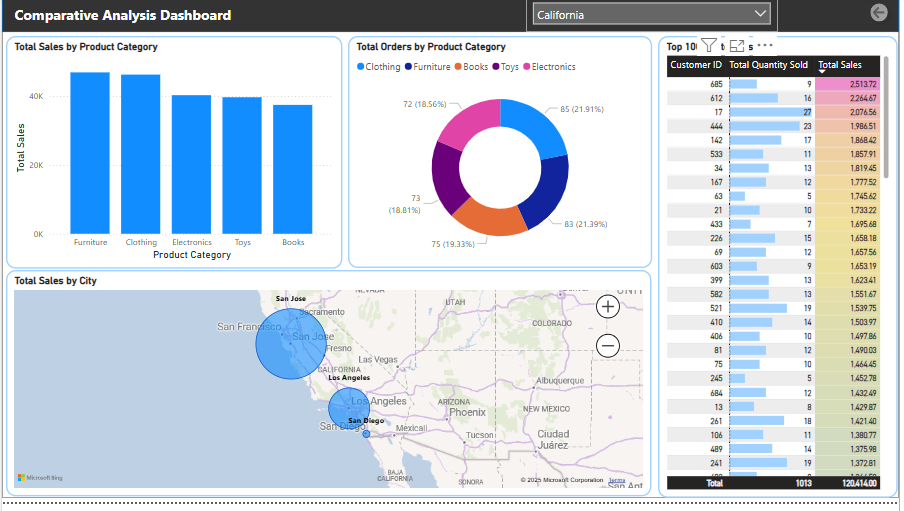

The page's visual inventory and layout, read from the dashboard file:
{"tool":"powerbi","page":{"name":"Compare page","canvas":[1280,720],"ordinal":1},"visuals":[{"type":"shape","box":[0,0,1280.1,65.9],"z":0,"group":"g1"},{"type":"textbox","box":[0,12,404,53.3],"z":1000,"group":"g1"},{"type":"clusteredColumnChart","title":"Total sales by Product Category","fields":{"Category":["Sales data 2024.product_category"],"Y":["Sum(Sales data 2024.sales)"]},"box":[0,65.3,330.7,245.3],"z":2000,"group":"g1"},{"type":"donutChart","title":"Total order by product_category","fields":{"Category":["Sales data 2024.product_category"],"Y":["CountNonNull(Sales data 2024.order_id)"]},"box":[371.1,66.7,375.6,243.3],"z":3000,"group":"g1"},{"type":"tableEx","title":"Top 100 Customers","fields":{"Values":["Sales data 2024.customer_id","Sum(Sales data 2024.quantity_sold)","Sum(Sales data 2024.sales)"]},"box":[803.3,65.6,424.4,490],"z":4000,"group":"g1"},{"type":"map","fields":{"Category":["Sales data 2024.city"],"Size":["Sum(Sales data 2024.sales)"]},"box":[13.3,341.1,687.8,298.9],"z":5000,"group":"g1"},{"type":"slicer","fields":{"Values":["Sales data 2024.state"]},"box":[676.2,0,371.2,52.5],"z":6000,"group":"g1"},{"type":"actionButton","box":[1188.8,12.5,58.8,40],"z":6001,"group":"g1"},{"type":"group","id":"g1","title":"Group 1","box":[0,0,1280.1,640],"z":6002}]}

Visuals, with their boxes in screenshot pixels (x1, y1, x2, y2), scaled from the page's 1280x720 canvas onto the 904x511 screenshot:
shape: detection(0, 0, 903, 47)
textbox: detection(0, 9, 285, 46)
"Total sales by Product Category" clusteredColumnChart: detection(0, 46, 234, 220)
"Total order by product_category" donutChart: detection(262, 47, 527, 220)
"Top 100 Customers" tableEx: detection(567, 47, 867, 394)
map - Sales data 2024.city x Sum(Sales data 2024.sales): detection(9, 242, 495, 454)
slicer - Sales data 2024.state: detection(478, 0, 740, 37)
actionButton: detection(840, 9, 881, 37)
"Group 1" group: detection(0, 0, 903, 454)
